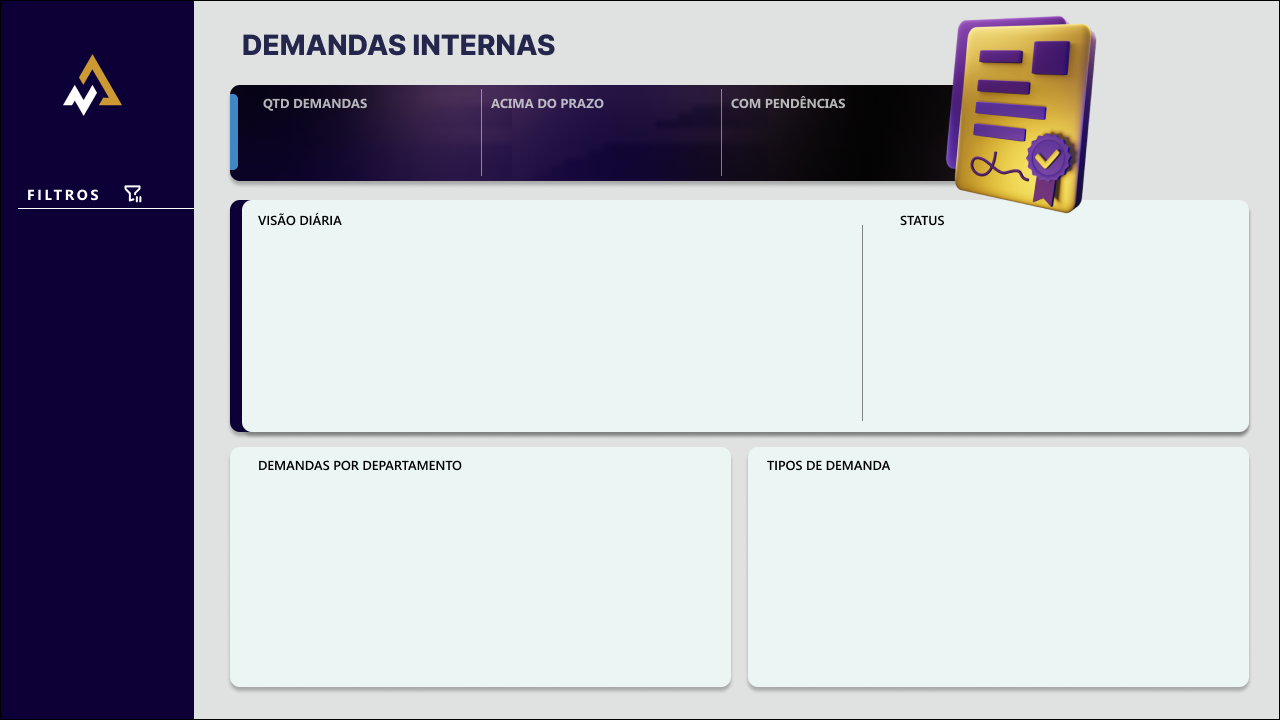

The dashboard page shown, as its layout file describes it:
{"tool":"powerbi","page":{"name":"Principal ","canvas":[1280,720],"ordinal":0},"visuals":[{"type":"clusteredBarChart","title":"Entradas por tipo de demanda","fields":{"Category":["tabela_Demandas.Demanda"],"Y":["Medidas.Qtd de demandas"]},"box":[770.4,461.7,463,213.6],"z":0},{"type":"columnChart","title":"Entradas por tipo de demanda","fields":{"Y":["Medidas.Qtd de demandas"],"Category":["Demandas.Departamento"]},"box":[244.4,463,463,213.6],"z":1000},{"type":"donutChart","title":"Entradas por tipo de demanda","fields":{"Y":["Medidas.Qtd de demandas"],"Category":["Demandas.Status da Demanda"]},"box":[850.3,224.3,400.4,197.8],"z":2000},{"type":"lineChart","title":"Entradas por tipo de demanda","fields":{"Y":["Medidas.Qtd de demandas"],"Category":["Demandas.Data de Entrada.Variation.Hierarquia de datas.Ano","Demandas.Data de Entrada.Variation.Hierarquia de datas.Trimestre","Demandas.Data de Entrada.Variation.Hierarquia de datas.Mês","Demandas.Data de Entrada.Variation.Hierarquia de datas.Dia"]},"box":[245.7,216,619.8,213.6],"z":3000},{"type":"slicer","fields":{"Values":["Demandas.Analista"]},"box":[12.3,216,180.2,56.8],"z":4000},{"type":"slicer","fields":{"Values":["Demandas.Data de Entrada.Variation.Hierarquia de datas.Mês"]},"box":[12.3,293.8,180.2,401.2],"z":5000},{"type":"card","fields":{"Values":["Medidas.Qts de pendências"]},"box":[749.4,75.3,180.2,116],"z":6000},{"type":"card","fields":{"Values":["Medidas.Qtd acima do prazo"]},"box":[512.3,75.3,180.2,116],"z":7000},{"type":"card","fields":{"Values":["Medidas.Qtd de demandas"]},"box":[274.1,75.3,180.2,116],"z":8000}]}

Visuals, with their boxes in screenshot pixels (x1, y1, x2, y2), scaled from the page's 1280x720 canvas onto the 1280x720 screenshot:
"Entradas por tipo de demanda" clusteredBarChart: <box>770,462,1233,675</box>
"Entradas por tipo de demanda" columnChart: <box>244,463,707,677</box>
"Entradas por tipo de demanda" donutChart: <box>850,224,1251,422</box>
"Entradas por tipo de demanda" lineChart: <box>246,216,866,430</box>
slicer - Demandas.Analista: <box>12,216,192,273</box>
slicer - Demandas.Data de Entrada.Variation.Hierarquia de datas.Mês: <box>12,294,192,695</box>
card - Medidas.Qts de pendências: <box>749,75,930,191</box>
card - Medidas.Qtd acima do prazo: <box>512,75,692,191</box>
card - Medidas.Qtd de demandas: <box>274,75,454,191</box>
